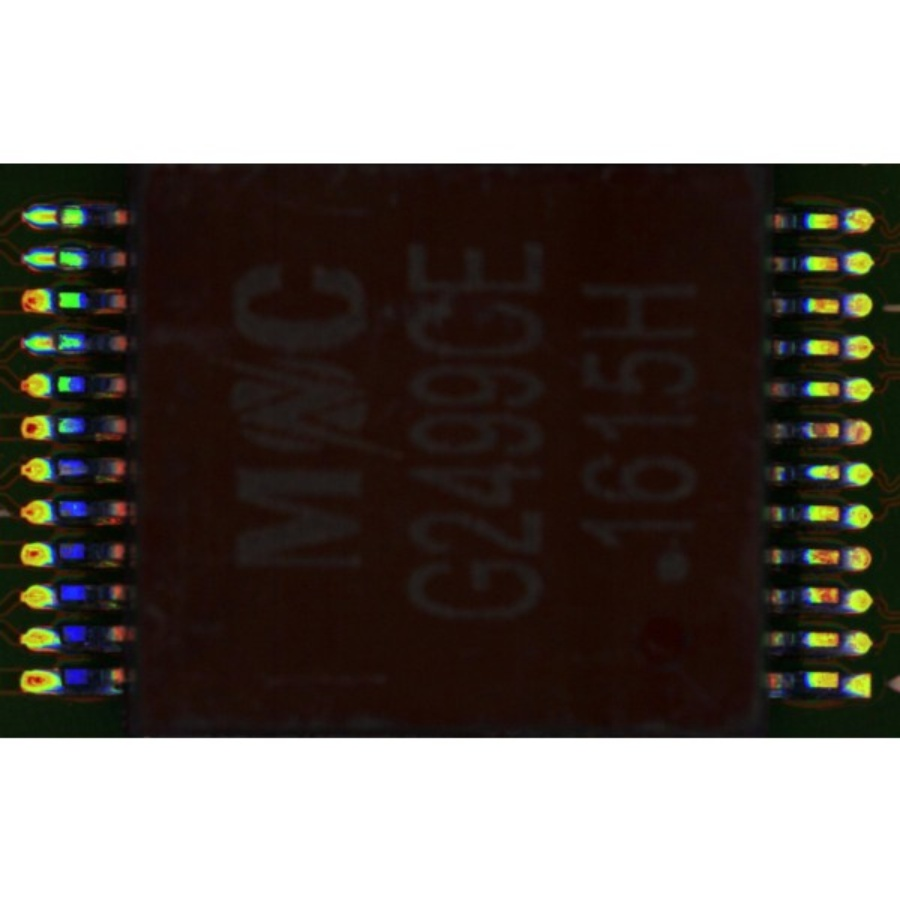Bad_podu: (41, 211, 76, 222), (36, 253, 68, 265), (36, 338, 73, 348)
